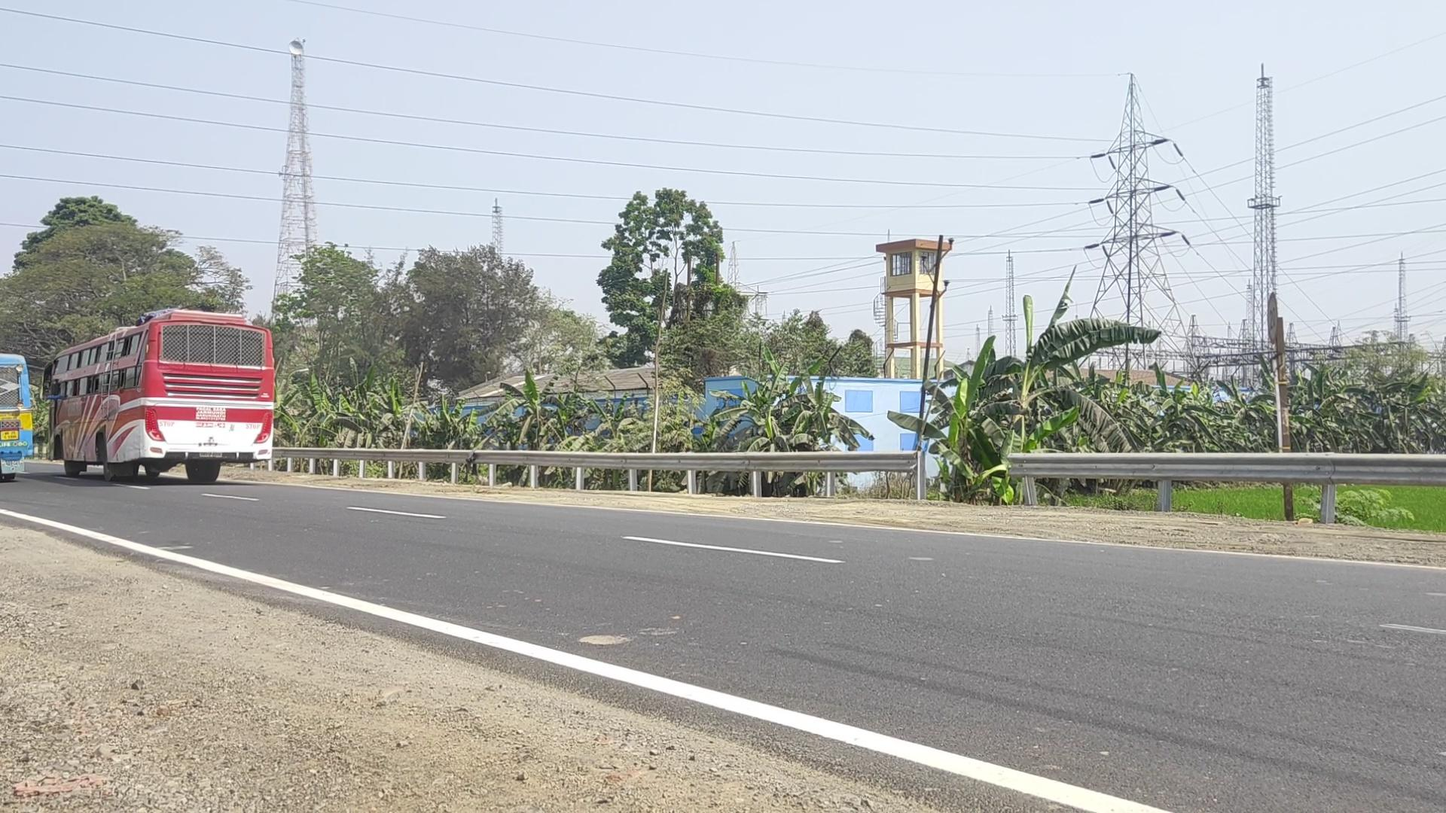Bus: (44, 312, 276, 483)
